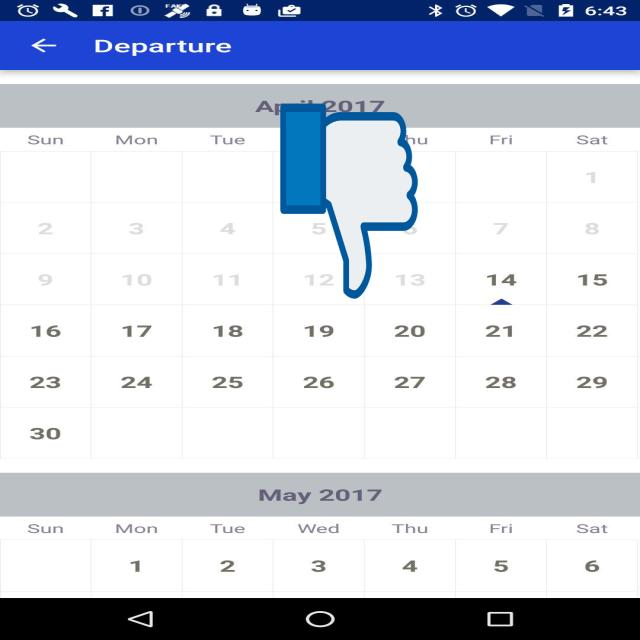obstruction: (280, 99, 418, 303)
